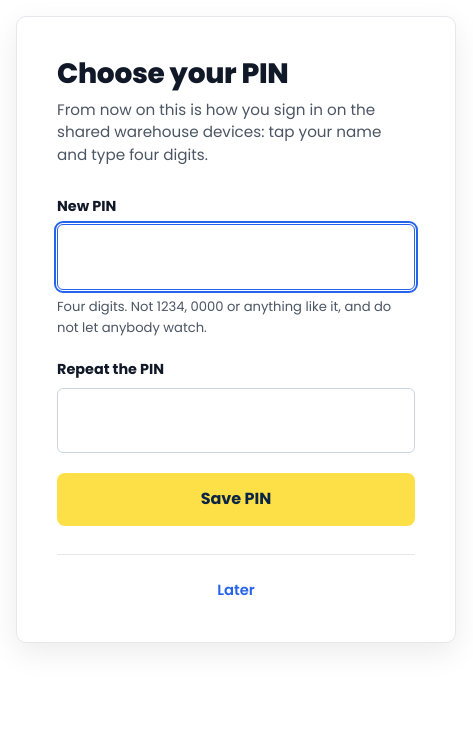
Test: choosing a floor PIN › catches two PINs that differ before anything is sent
Type "4826" into the password field labelled "New PIN" at x=236, y=257, box [57, 224, 415, 290]
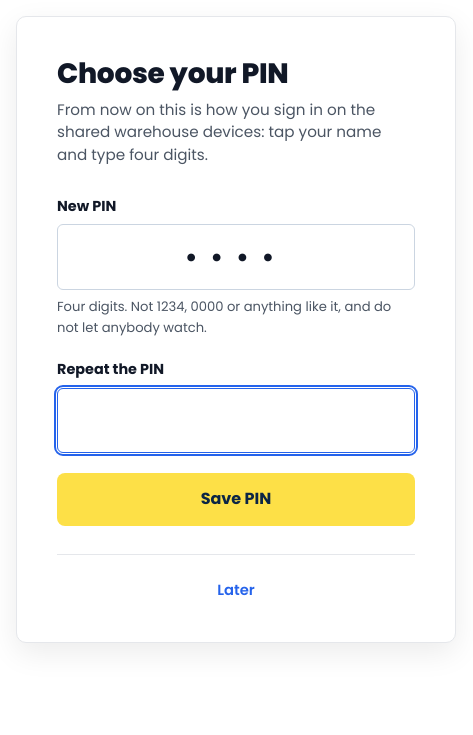
Type "4827" into the password field labelled "Repeat the PIN" at x=236, y=420, box [57, 388, 415, 453]
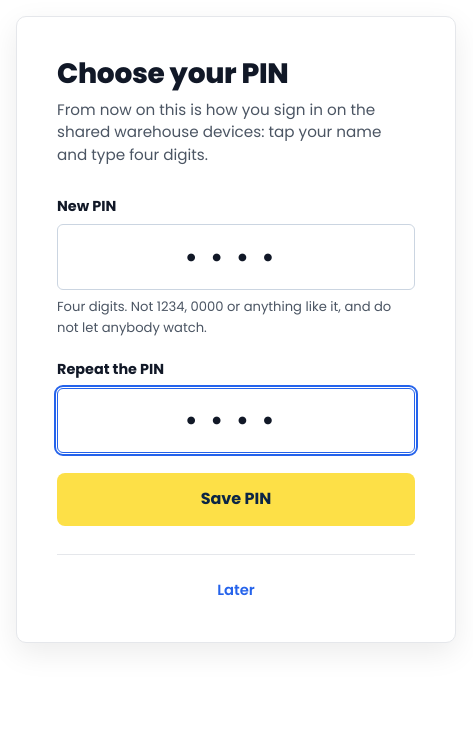
Click the button "Save PIN" at x=236, y=499, box [57, 473, 415, 526]
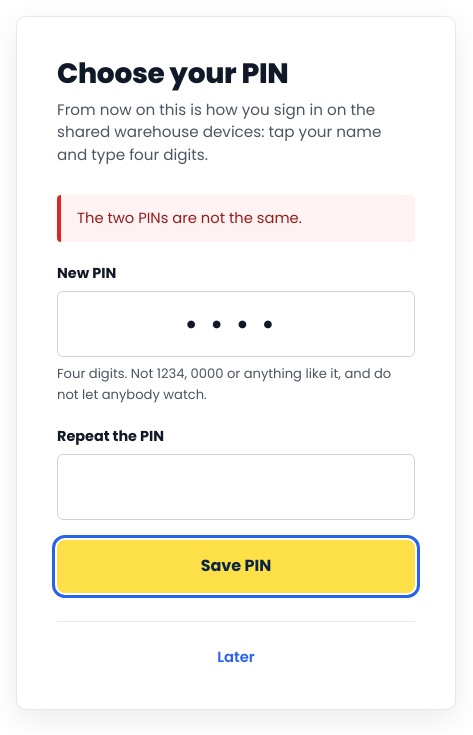
Now the message reads "The two PINs are not the same.", box [77, 208, 302, 228]
